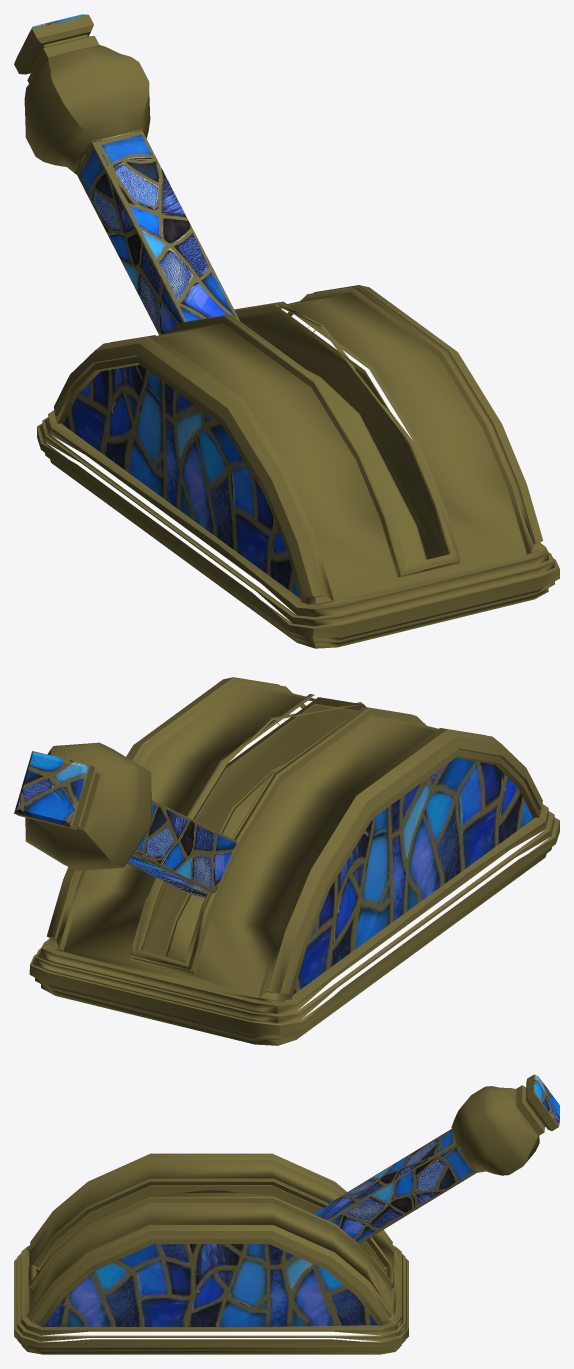
Rendered from leverWholeP3_lowPoly_lowPoly.glb.
The picture shows the model from 3 angles, top to bottom: view 1: azimuth 30°, elevation 25°; view 2: azimuth 150°, elevation 25°; view 3: azimuth 270°, elevation 25°; orthographic projection. The views are drawn at different scales.
Parts seen in each view (by area): view 1: Mesh_1.001; view 2: Mesh_1.001; view 3: Mesh_1.001.
Part boxes in pixels (x1,y1,x2,y2): Mesh_1.001: (14, 14, 559, 648); Mesh_1.001: (14, 677, 559, 1045); Mesh_1.001: (14, 1074, 559, 1354).
Bounding box in the file's own units: 0.4998 × 0.5935 × 1.28.
Materials: 2 (2 with a texture image).
